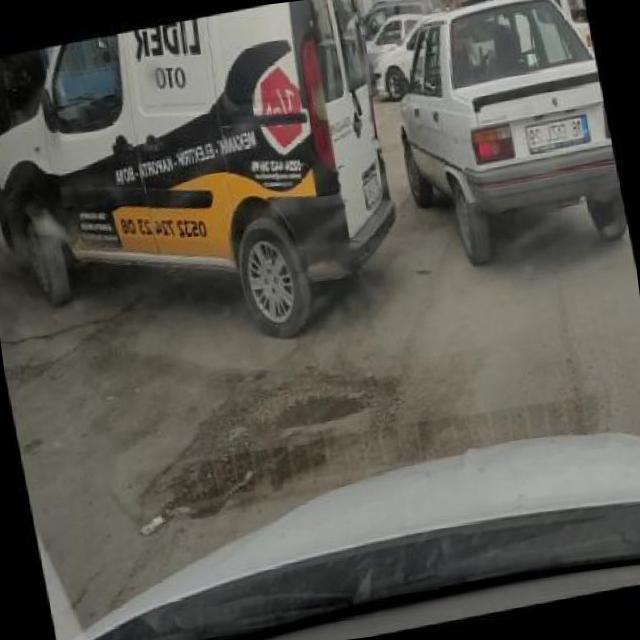Pothole: (247, 381, 388, 443)
